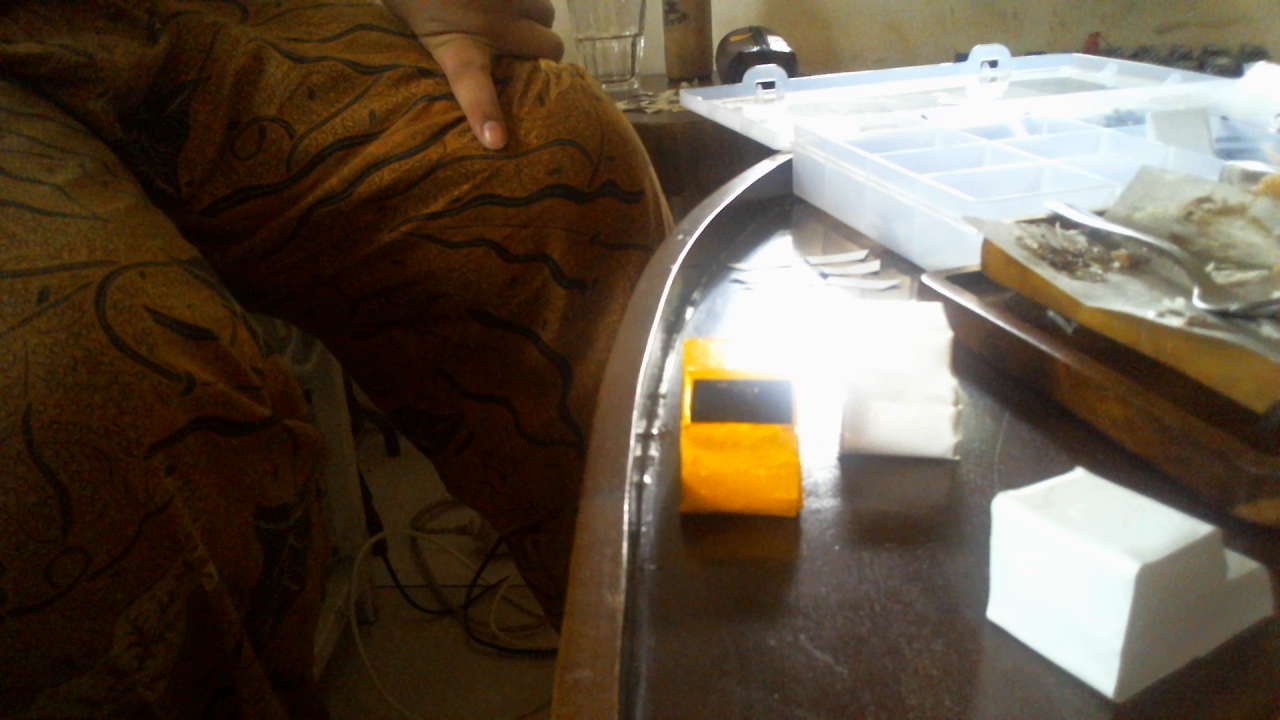Kijang Kapsul: (654, 313, 830, 574)
